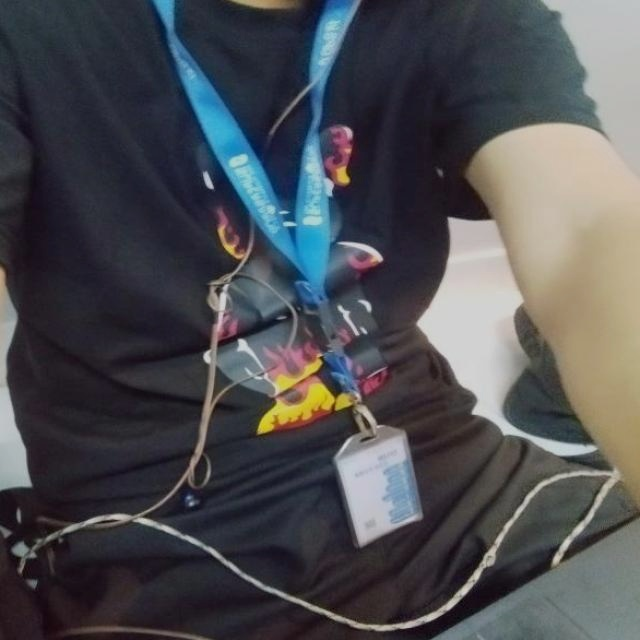ID_card: (159, 11, 439, 540)
